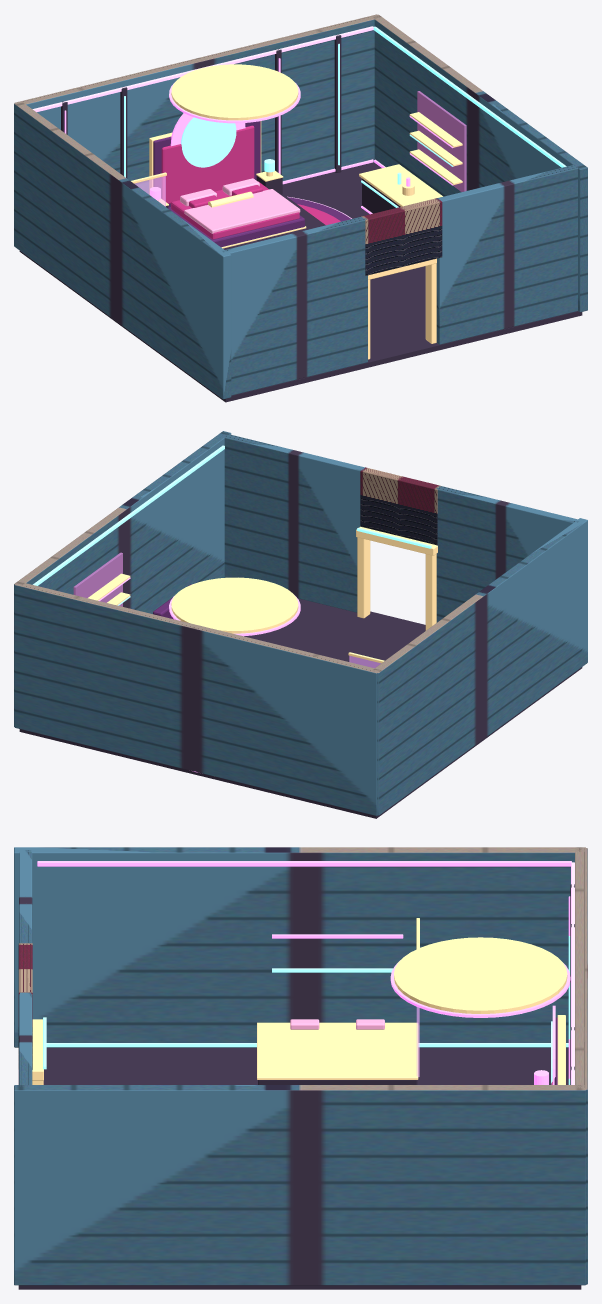
Rendered from love-hotel.raw.glb.
3 renders of one model, top to bottom at view 1: azimuth 30°, elevation 25°; view 2: azimuth 150°, elevation 25°; view 3: azimuth 270°, elevation 25°, orthographic. The views are drawn at different scales.
Visible parts, largest first — view 1: wall-west, wall-north, wall-south-right, wall-south-left, wall-east, hotel-floor, ceiling-mirror-frame, wall-south-header, bed-headboard-crimson, bed-silk-duvet, bed-neon-halo-inner, minibar-back-mirror (+13 smaller); view 2: wall-north, wall-west, wall-south-right, wall-east, wall-south-left, hotel-floor, ceiling-mirror-frame, wall-south-header, minibar-back-mirror, exit-door-pillar-right, led-crown-east, exit-door-pillar-left (+1 smaller); view 3: wall-east, wall-west, hotel-floor, ceiling-mirror-frame, jacuzzi-gold-rim, wall-north, led-crown-west, led-skirt-west, wall-south-right, wall-south-left, ceiling-neon-ring, wall-south-header (+6 smaller).
Boxes of the visible parts, left/top/right/bottom form: wall-west: left=14, top=101, right=231, bottom=399; wall-north: left=15, top=14, right=380, bottom=193; wall-south-right: left=436, top=165, right=577, bottom=344; wall-south-left: left=222, top=217, right=367, bottom=395; wall-east: left=372, top=14, right=587, bottom=312; hotel-floor: left=19, top=162, right=582, bottom=402; ceiling-mirror-frame: left=171, top=64, right=298, bottom=120; wall-south-header: left=361, top=198, right=442, bottom=275; bed-headboard-crimson: left=161, top=125, right=254, bottom=203; bed-silk-duvet: left=184, top=189, right=300, bottom=233; bed-neon-halo-inner: left=181, top=117, right=236, bottom=167; minibar-back-mirror: left=417, top=91, right=466, bottom=191; wall-north: left=14, top=583, right=379, bottom=815; wall-west: left=372, top=518, right=587, bottom=815; wall-south-right: left=222, top=434, right=364, bottom=612; wall-east: left=14, top=431, right=231, bottom=726; wall-south-left: left=436, top=486, right=580, bottom=622; hotel-floor: left=19, top=598, right=582, bottom=818; ceiling-mirror-frame: left=171, top=577, right=298, bottom=633; wall-south-header: left=360, top=467, right=440, bottom=545; minibar-back-mirror: left=73, top=552, right=122, bottom=606; exit-door-pillar-right: left=357, top=537, right=370, bottom=618; led-crown-east: left=33, top=445, right=224, bottom=585; exit-door-pillar-left: left=425, top=554, right=436, bottom=630; wall-east: left=14, top=1085, right=585, bottom=1285; wall-west: left=14, top=847, right=585, bottom=1047; hotel-floor: left=18, top=1047, right=581, bottom=1289; ceiling-mirror-frame: left=394, top=937, right=567, bottom=1013; jacuzzi-gold-rim: left=257, top=1022, right=418, bottom=1079; wall-north: left=575, top=848, right=587, bottom=1284; led-crown-west: left=37, top=861, right=571, bottom=866; led-skirt-west: left=46, top=1043, right=568, bottom=1047; wall-south-right: left=19, top=992, right=32, bottom=1086; wall-south-left: left=19, top=850, right=32, bottom=943; ceiling-neon-ring: left=390, top=960, right=570, bottom=1017; wall-south-header: left=18, top=943, right=32, bottom=1069.
Size of the model in its own units: 12.28 by 4.76 by 12.24.
Materials: 12 (1 with a texture image).
